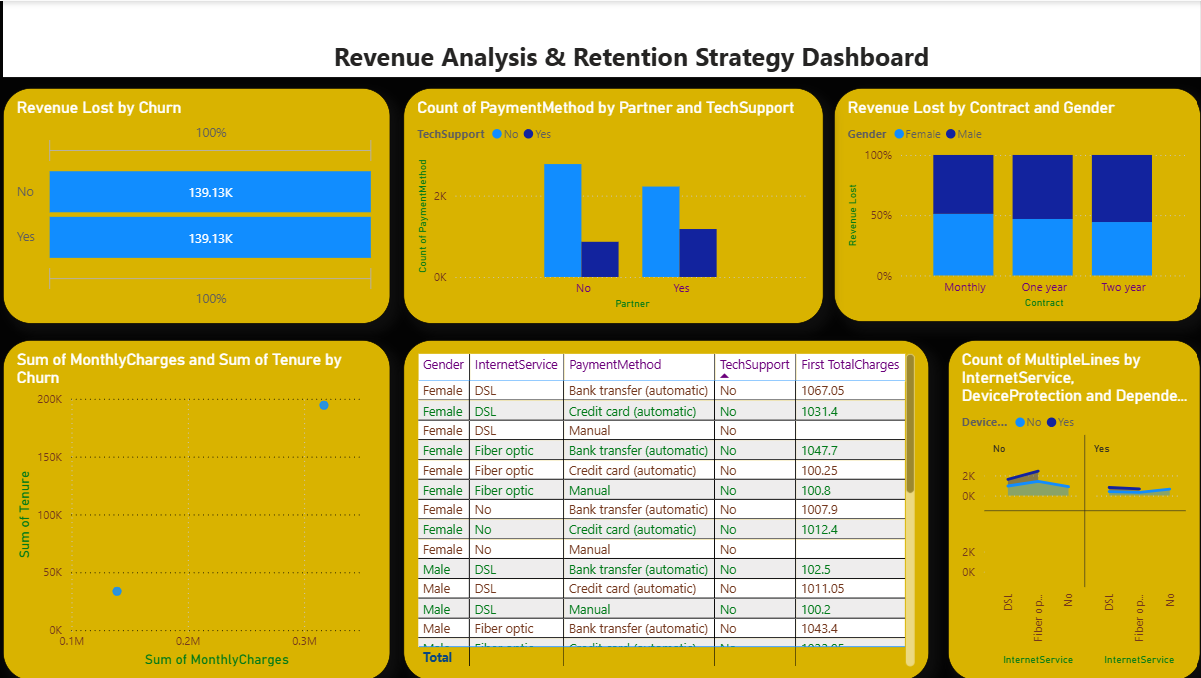

The dashboard page shown, as its layout file describes it:
{"tool":"powerbi","page":{"name":"Page 4","canvas":[1280,720],"ordinal":3},"visuals":[{"type":"textbox","box":[9.7,0,1271.1,81],"z":0},{"type":"funnel","fields":{"Y":["churn_analysis telecom_churn.Revenue Lost"],"Category":["churn_analysis telecom_churn.Churn"]},"box":[9.5,92.3,410.4,249.7],"z":1},{"type":"hundredPercentStackedColumnChart","fields":{"Category":["churn_analysis telecom_churn.Contract"],"Y":["churn_analysis telecom_churn.Revenue Lost"],"Series":["churn_analysis telecom_churn.Gender"]},"box":[890.7,92.3,389.7,248.1],"z":2},{"type":"clusteredColumnChart","fields":{"Y":["CountNonNull(churn_analysis telecom_churn.PaymentMethod)"],"Category":["churn_analysis telecom_churn.Partner"],"Series":["churn_analysis telecom_churn.TechSupport"]},"box":[434.2,92.3,445.4,249.7],"z":3},{"type":"scatterChart","fields":{"Category":["churn_analysis telecom_churn.Churn"],"X":["Sum(churn_analysis telecom_churn.MonthlyCharges)"],"Y":["Sum(churn_analysis telecom_churn.Tenure)"]},"box":[9.5,359.5,410.4,361.1],"z":4},{"type":"tableEx","fields":{"Values":["churn_analysis telecom_churn.Gender","churn_analysis telecom_churn.InternetService","churn_analysis telecom_churn.PaymentMethod","churn_analysis telecom_churn.TechSupport","Min(churn_analysis telecom_churn.TotalCharges)"]},"box":[434,359.5,557,361.1],"z":5},{"type":"stackedAreaChart","fields":{"Y":["CountNonNull(churn_analysis telecom_churn.MultipleLines)"],"Category":["churn_analysis telecom_churn.InternetService"],"Series":["churn_analysis telecom_churn.DeviceProtection"],"Rows":["churn_analysis telecom_churn.Dependents"]},"box":[1011.6,359.5,268.8,361.1],"z":6}]}

Visuals, with their boxes in screenshot pixels (x1, y1, x2, y2), scaled from the page's 1280x720 canvas onto the 1201x678 screenshot:
textbox: [9, 0, 1200, 76]
funnel - churn_analysis telecom_churn.Revenue Lost x churn_analysis telecom_churn.Churn: [9, 87, 394, 322]
hundredPercentStackedColumnChart - churn_analysis telecom_churn.Contract x churn_analysis telecom_churn.Revenue Lost: [836, 87, 1200, 321]
clusteredColumnChart - CountNonNull(churn_analysis telecom_churn.PaymentMethod) x churn_analysis telecom_churn.Partner: [407, 87, 825, 322]
scatterChart - churn_analysis telecom_churn.Churn x Sum(churn_analysis telecom_churn.MonthlyCharges): [9, 339, 394, 677]
tableEx - churn_analysis telecom_churn.Gender x churn_analysis telecom_churn.InternetService: [407, 339, 930, 677]
stackedAreaChart - CountNonNull(churn_analysis telecom_churn.MultipleLines) x churn_analysis telecom_churn.InternetService: [949, 339, 1200, 677]
